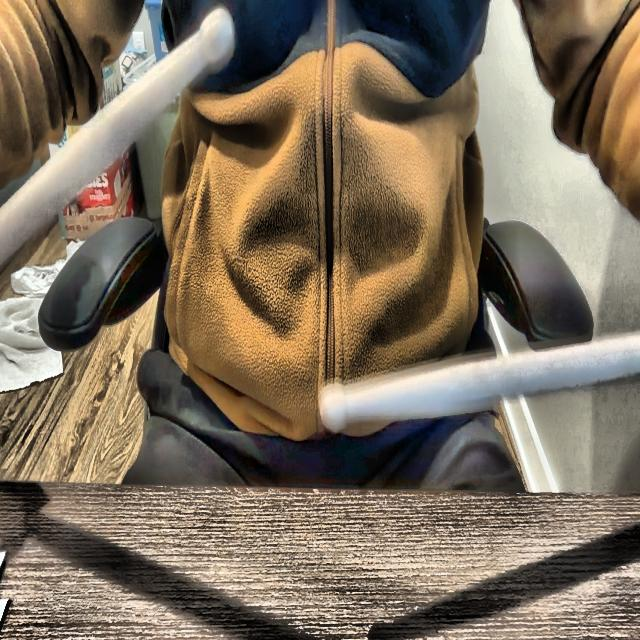Drumstick-Heads: (196, 4, 238, 70), (318, 372, 350, 440)
